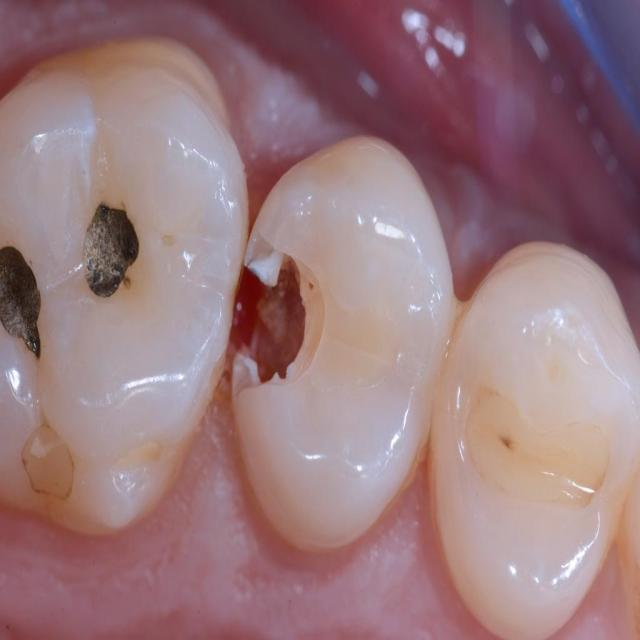Caries: (82, 201, 139, 299), (0, 246, 41, 361), (501, 439, 512, 449), (309, 282, 313, 290)
Cavity: (227, 222, 324, 395)
Tooth: (0, 37, 252, 537), (226, 133, 453, 550), (428, 240, 639, 637), (613, 464, 639, 630)
